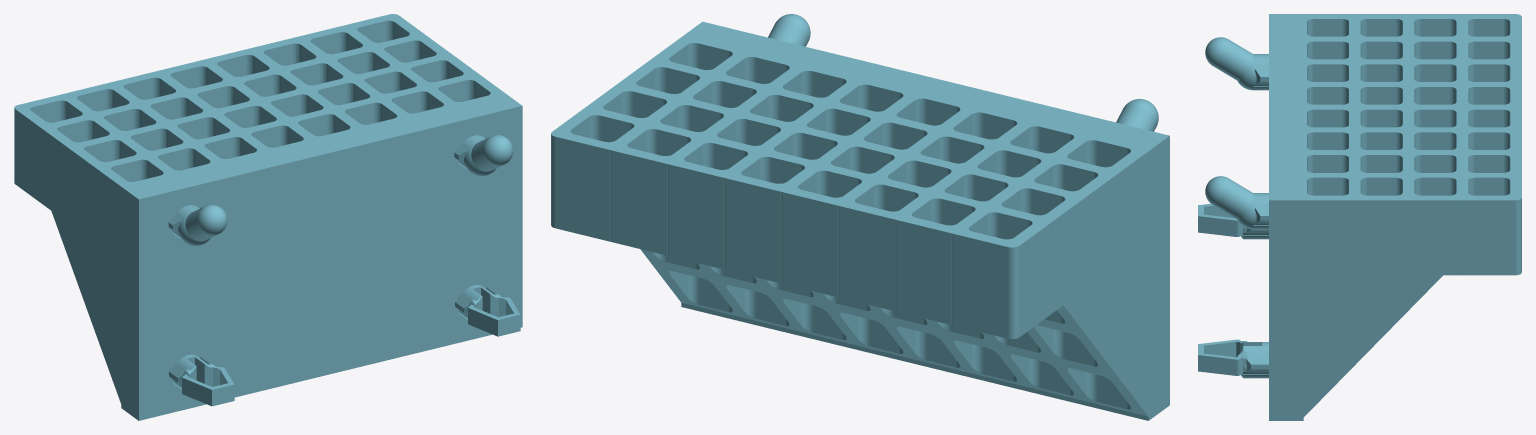
The model's file is part-p01-32__current-mounts-flat-top-v2__fit-pf02c9-hoop5__installed.glb.
The picture shows the model from 3 angles, left to right: view 1: azimuth 30°, elevation 25°; view 2: azimuth 150°, elevation 25°; view 3: azimuth 270°, elevation 25°; orthographic projection. The views are drawn at different scales.
Visible parts, largest first — view 1: installed.stl; view 2: installed.stl; view 3: installed.stl.
Boxes of the visible parts, <box> form: installed.stl: <box>14,14,522,420</box>; installed.stl: <box>551,14,1169,420</box>; installed.stl: <box>1198,14,1521,420</box>.
Size of the model in its own units: 0.0682 by 0.0376 by 0.05.
